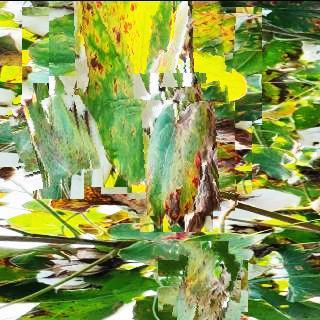blight: (49, 0, 233, 159), (118, 98, 235, 215), (12, 94, 104, 186), (164, 246, 241, 320)
